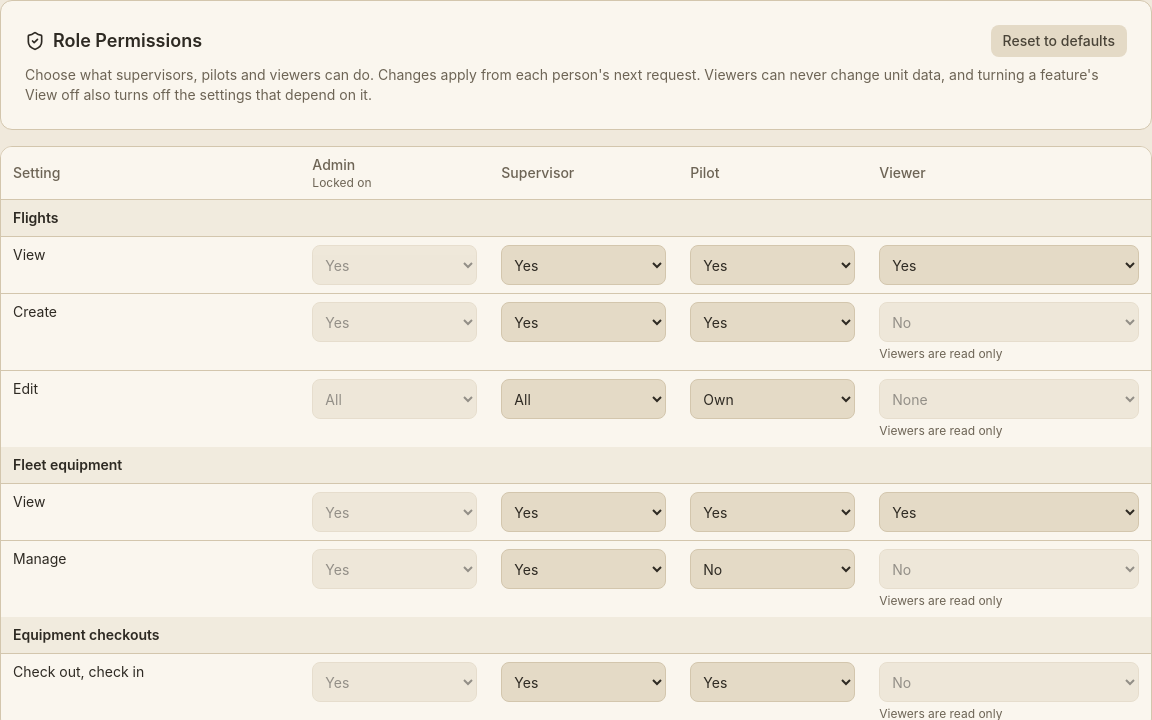
Test: RolePermissionsGrid wide layout › shows save and discard only when there are changes
Expected: the button "Save changes" is not shown
Select "All" in the dropdown named "Pilot, Flights, Edit" at (773, 399), box [690,379,855,419]
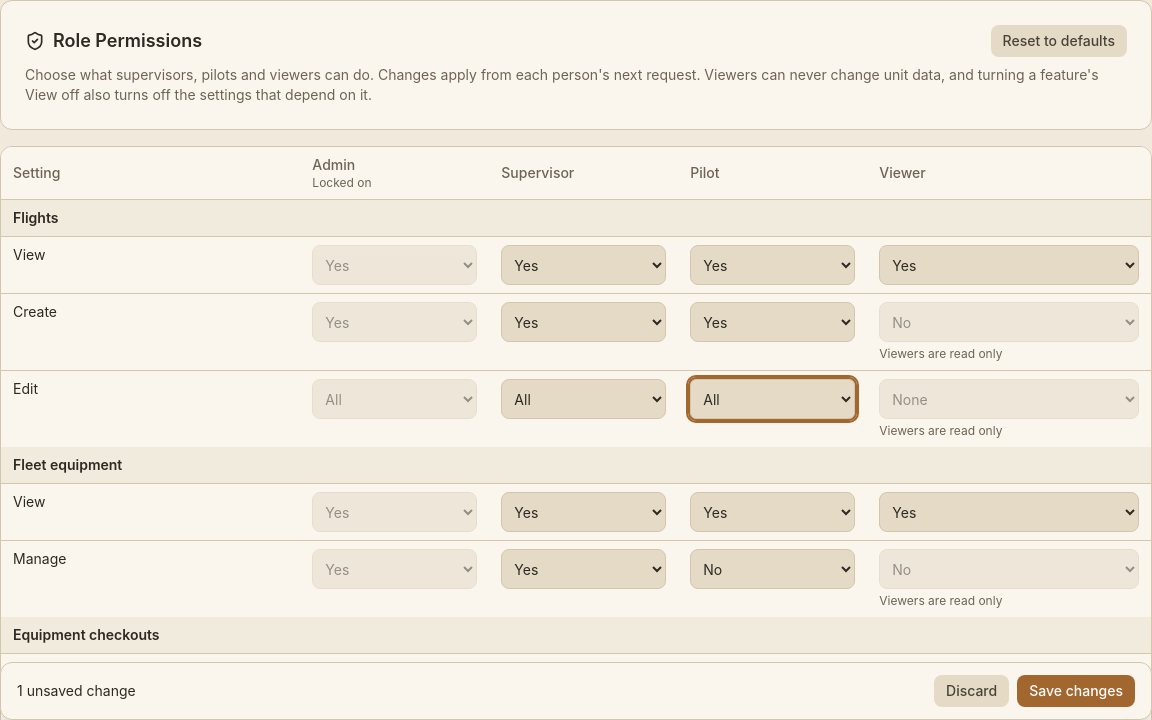
Now the button "Save changes" is shown, box [1017,675,1135,707]
Now the text "1 unsaved change" is shown, box [17,681,136,701]
Click the button "Discard" at (972, 691), box [934,675,1009,707]
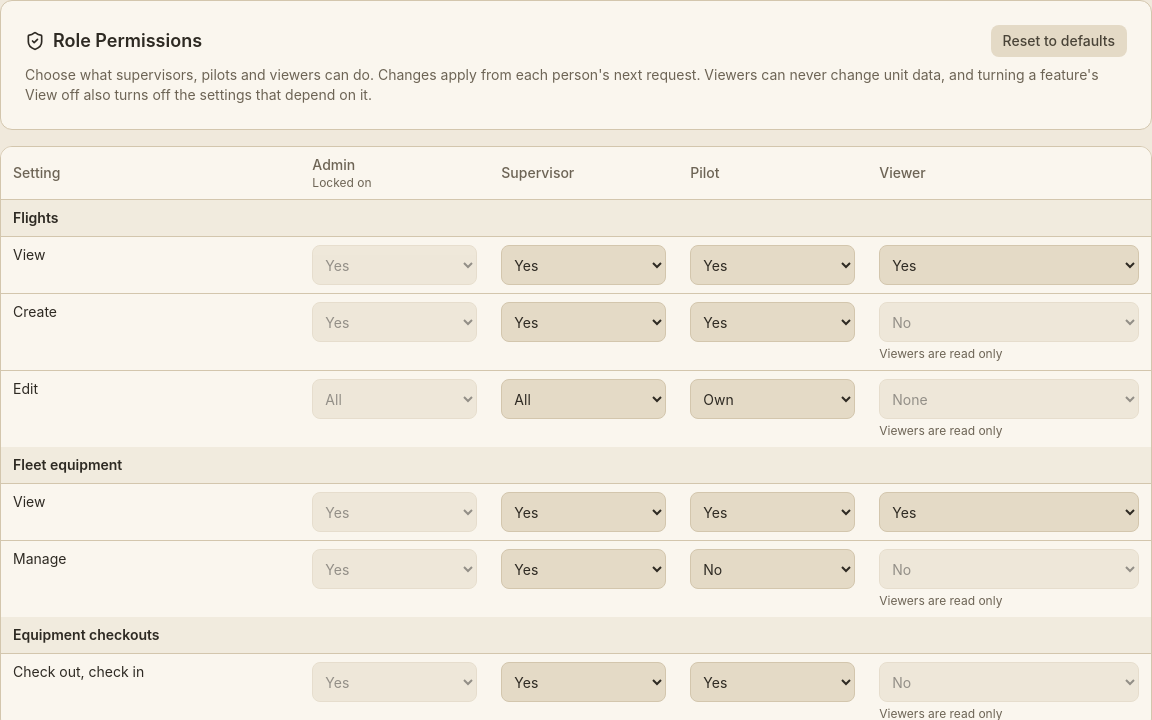
Now the button "Save changes" is gone
